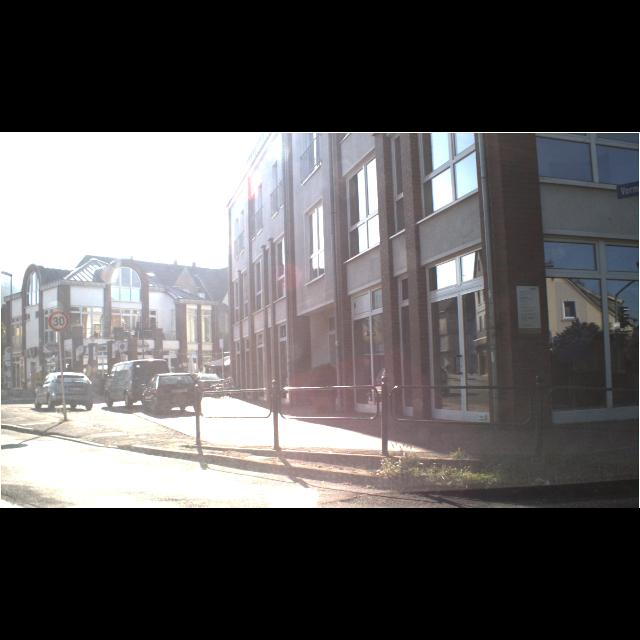prohibitory: (48, 310, 68, 332)
